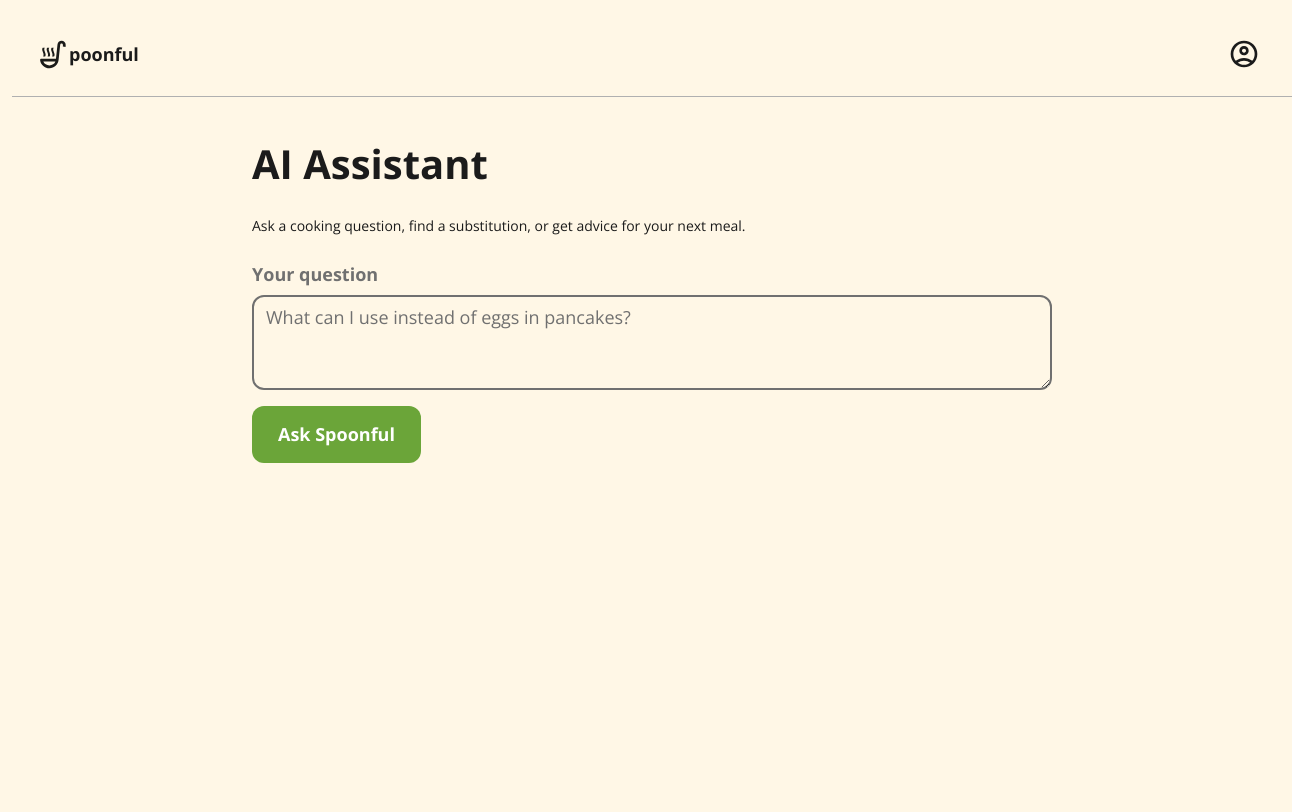
shows errors and does not add failed requests to history
Type "Help" into the text box labelled "Your question" at (652,342), box [252,295,1052,390]
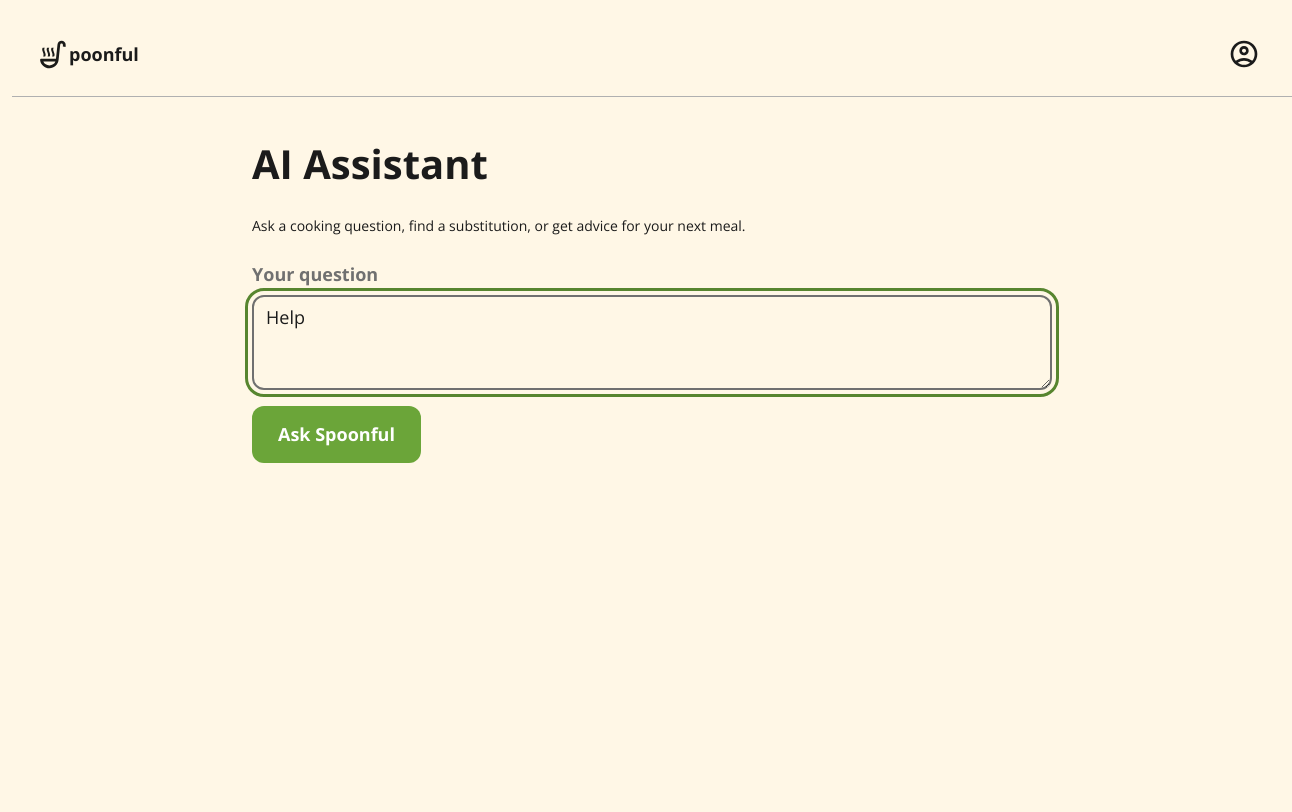
Click the button "Ask Spoonful" at (336,434), box [252,406,421,463]
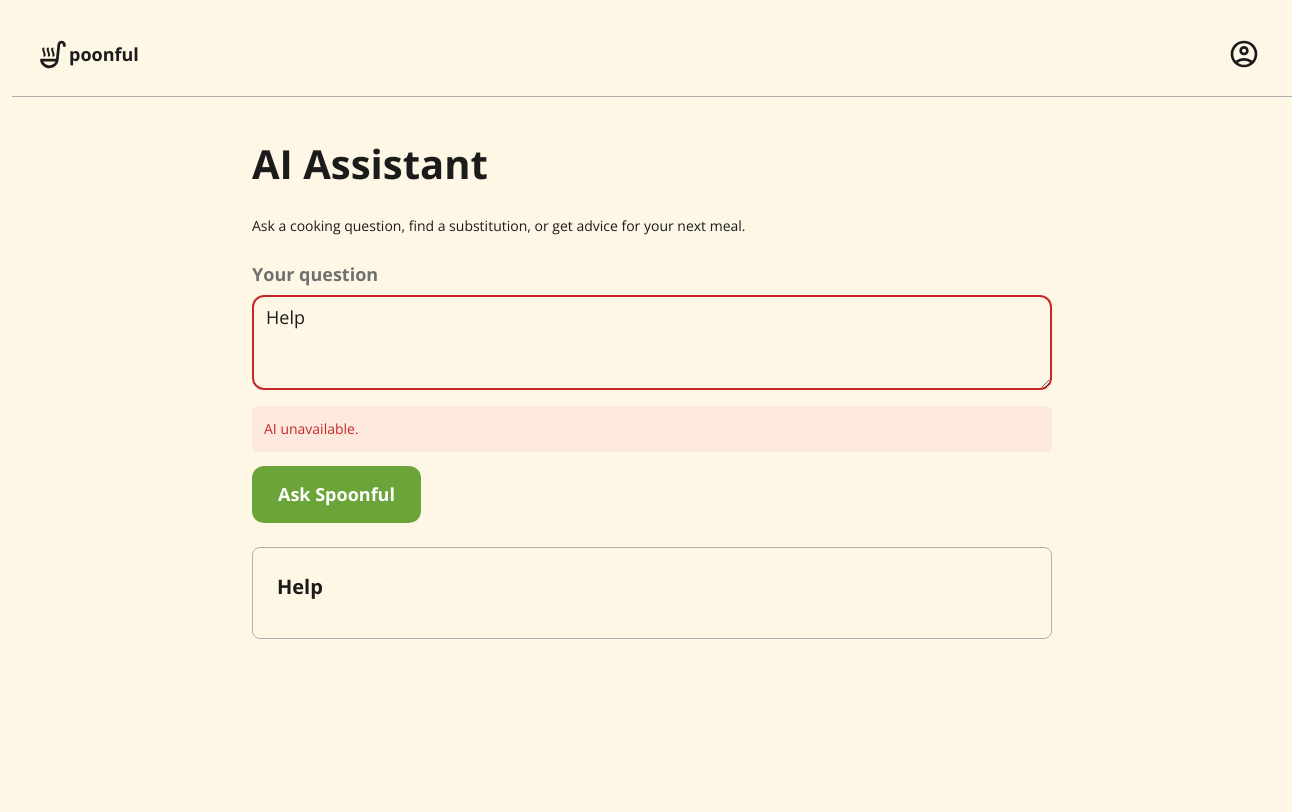
Check: the button "Ask Spoonful" is enabled, box [252,466,421,523]
Check: the message reads "AI unavailable.", box [264,419,359,438]
